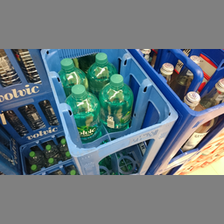water: (62, 85, 104, 141), (100, 73, 133, 129), (83, 53, 114, 92)
